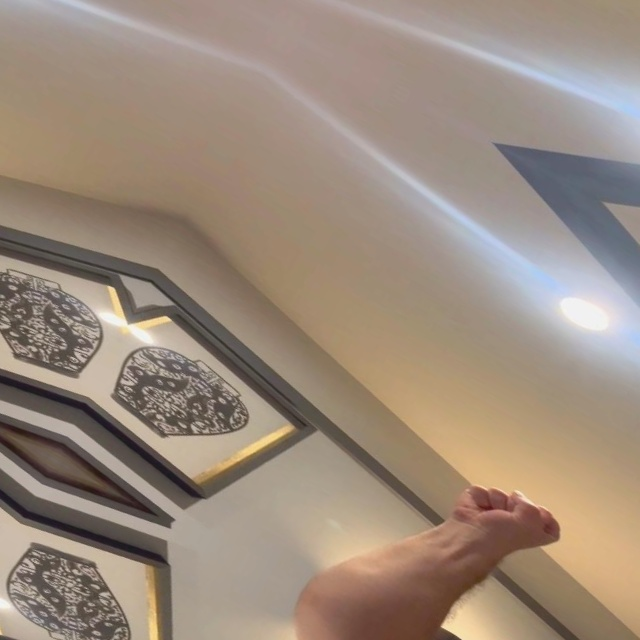Rock: (439, 462, 574, 572)
